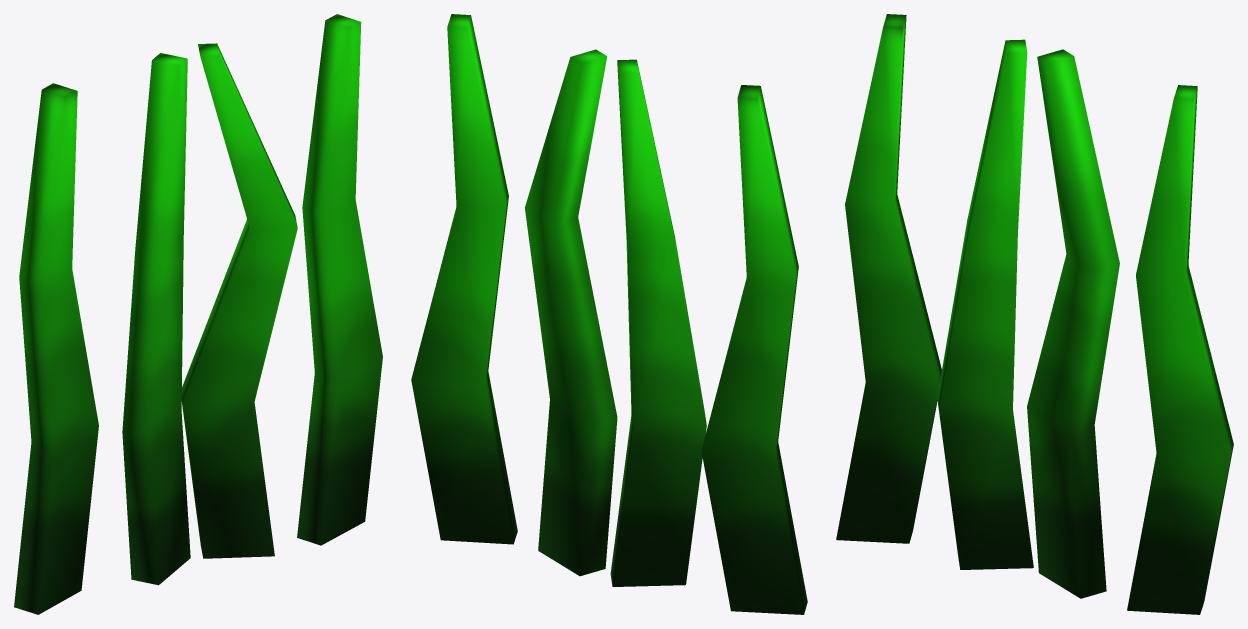
File: grass0.dae
The picture shows the model from 3 angles, left to right: view 1: azimuth 30°, elevation 25°; view 2: azimuth 150°, elevation 25°; view 3: azimuth 330°, elevation 25°; orthographic projection. The views are drawn at different scales.
Visible parts, largest first — view 1: grass; view 2: grass; view 3: grass.
Boxes of the visible parts, x1=… form: grass: x1=14, y1=14, x2=382, y2=614; grass: x1=411, y1=14, x2=807, y2=614; grass: x1=836, y1=14, x2=1233, y2=614.
Size of the model in its own units: 0.538 by 0.0993 by 0.6892.
1 material, 1 textured.
